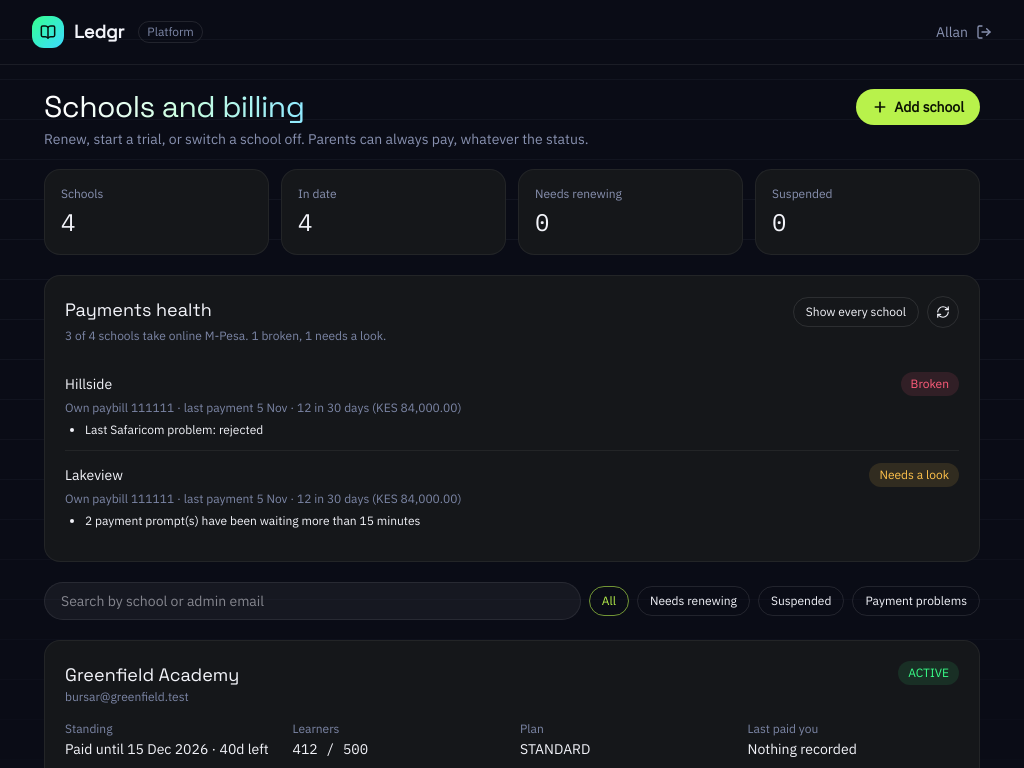
Test: payments health › tapping a school narrows the list to it
Check: the heading "Payments health" is shown, box [65,298,212,321]
Click the button "Hillside".
click(89, 384)  # box [65,374,112,394]
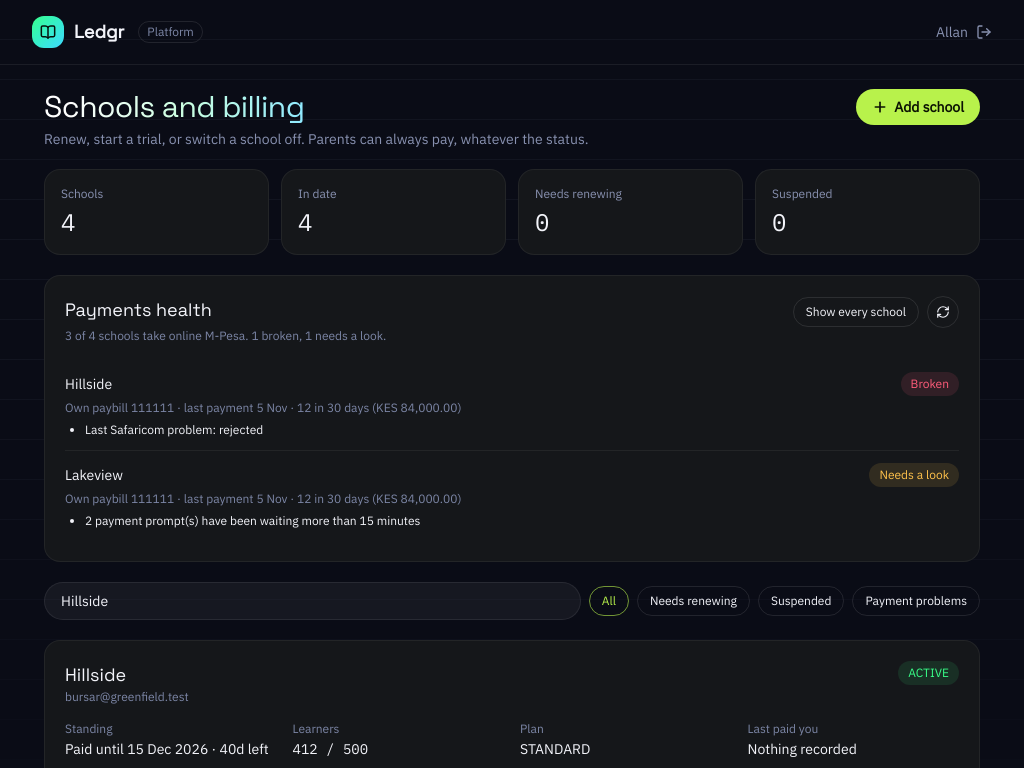
Check: the heading "Hillside" is shown, box [65,663,126,686]
Check: the search field named "Search schools" holds "Hillside", box [44,582,581,620]
